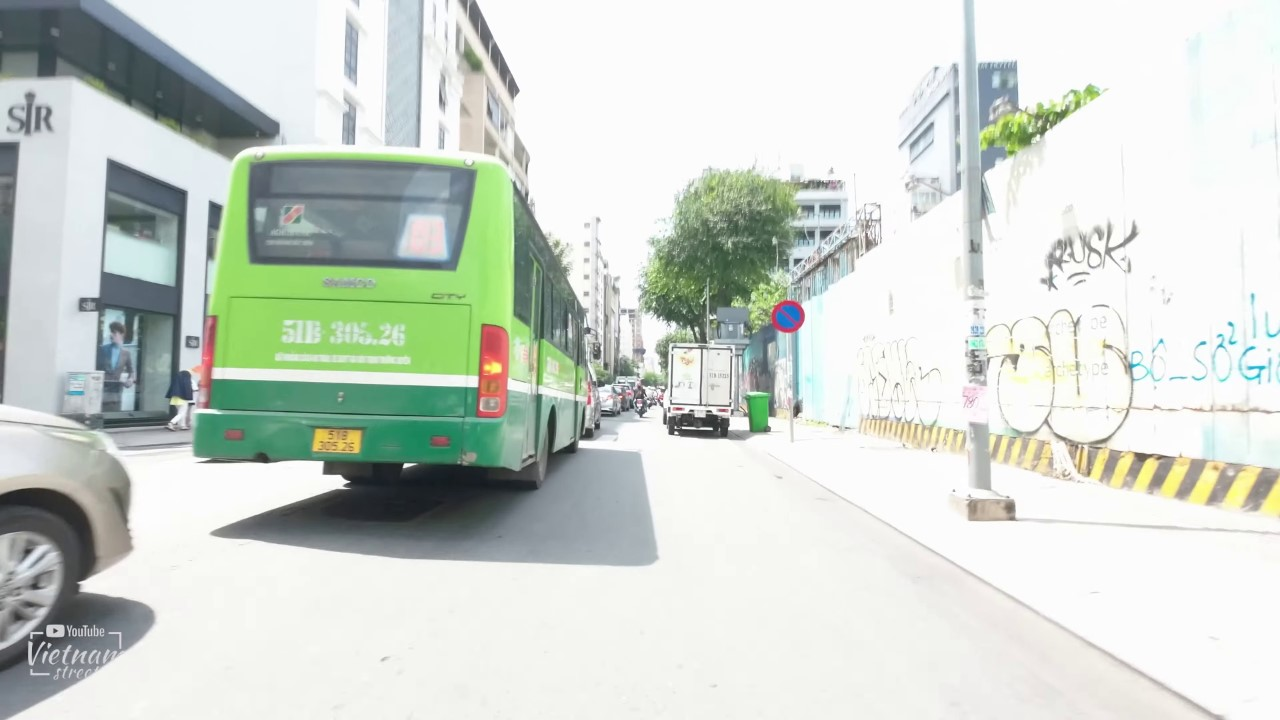cam_do_xe: (769, 300, 807, 334)
